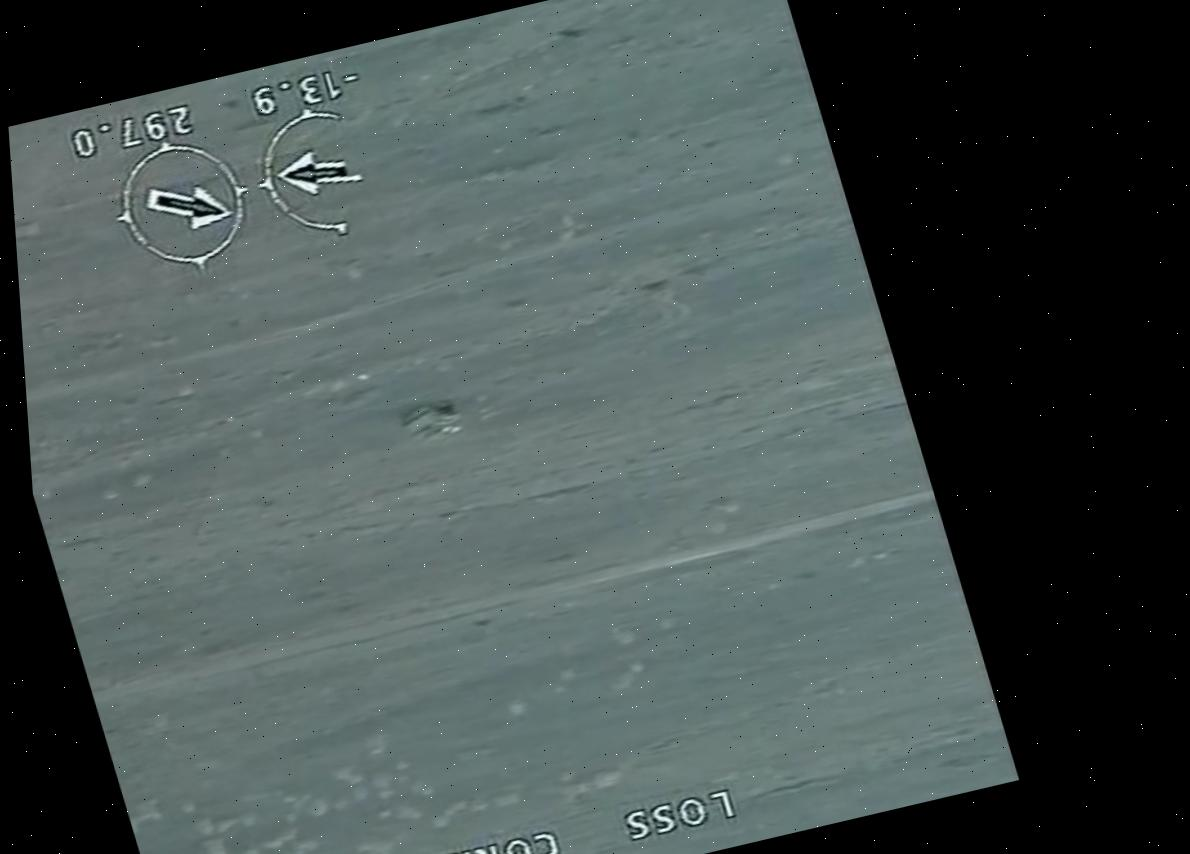armored_car: (394, 390, 467, 450)
